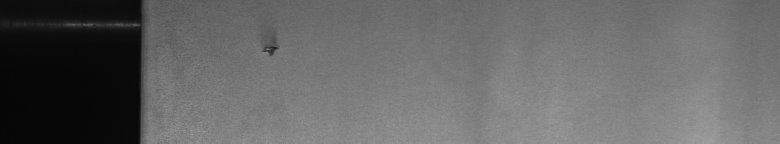fi: (257, 36, 284, 64)
